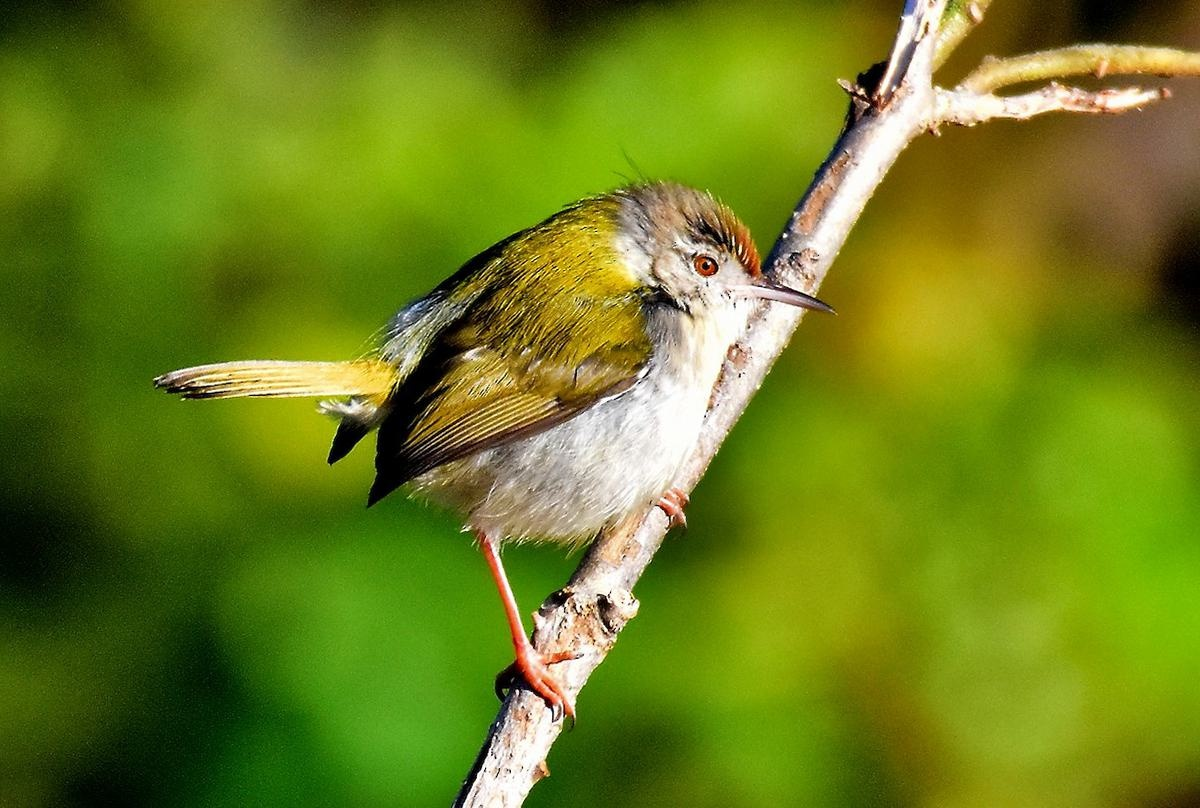tailorbird: (177, 101, 833, 674)
